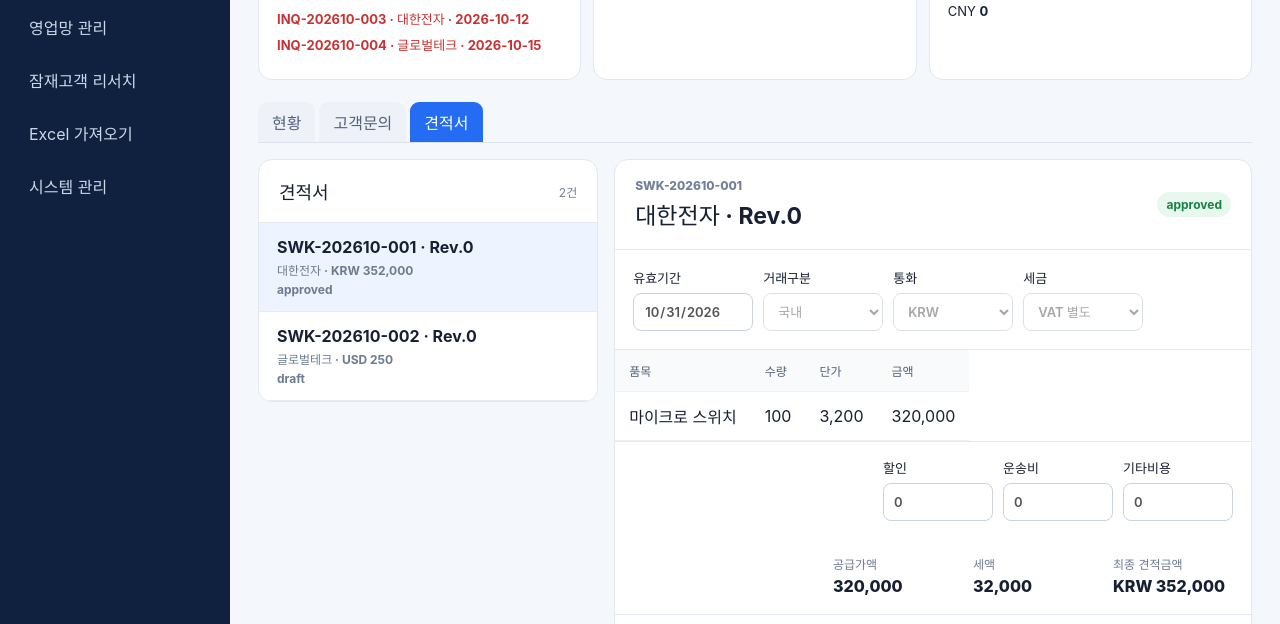
Scenario: quotation and inquiry workspace › renders the three tabs, dashboard alerts, manager approval, and approved revision lock
(page scrolled)
Expected: the tabs read "현황", "고객문의", "견적서", in this order, [258, 102, 316, 142]; [320, 102, 406, 142]; [410, 102, 482, 142]
Click the button "SWK-202610-002 · Rev.0 글로벌테크 · USD 250 draft" at (348, 336), box [259, 312, 597, 401]
(page scrolled)
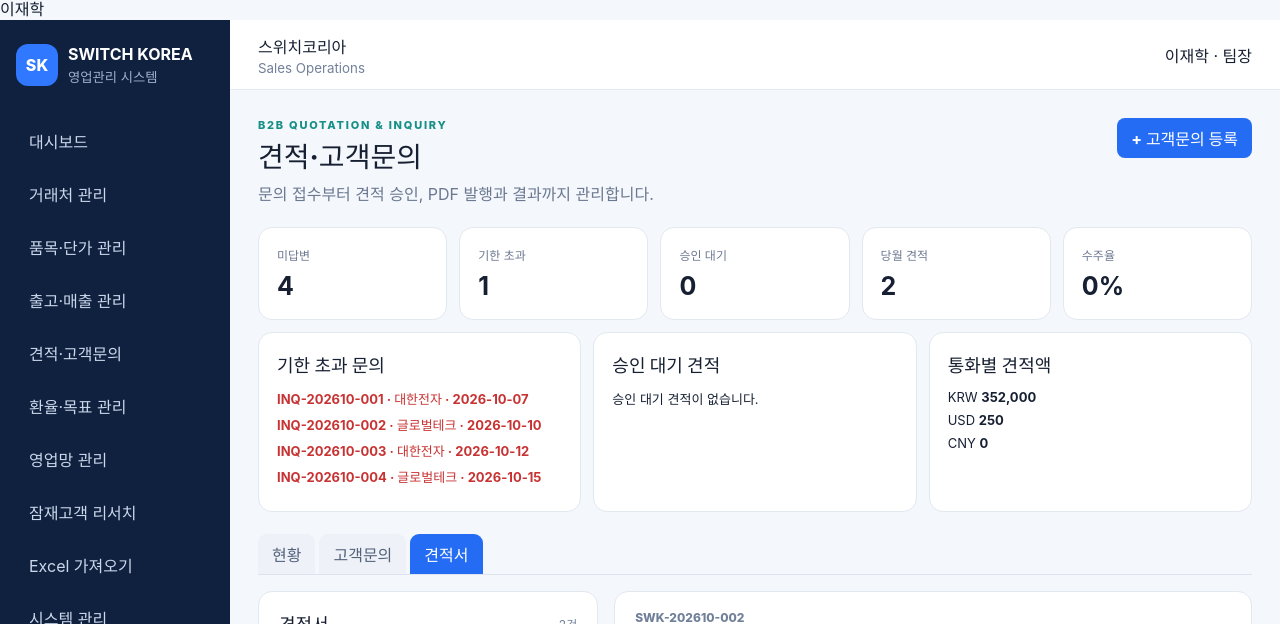
Click the button "+ 고객문의 등록" at (1185, 138), box [1117, 118, 1252, 158]
(page scrolled)
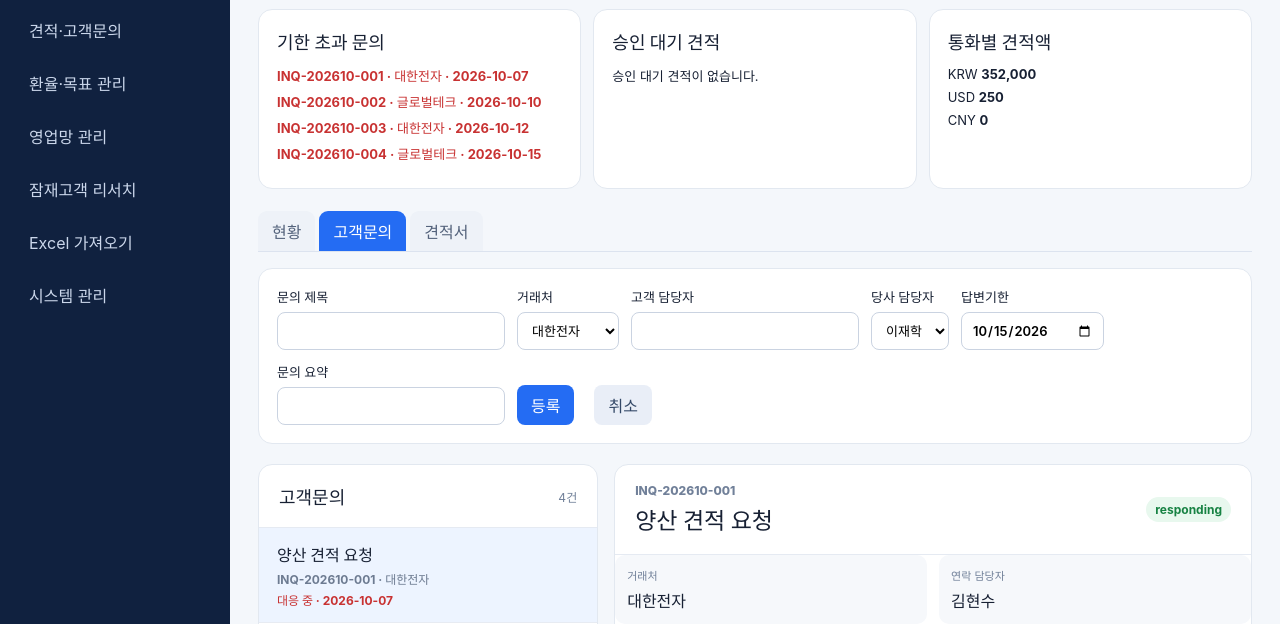
Expected: the form named "고객문의 등록" is shown, [258, 268, 1252, 444]
